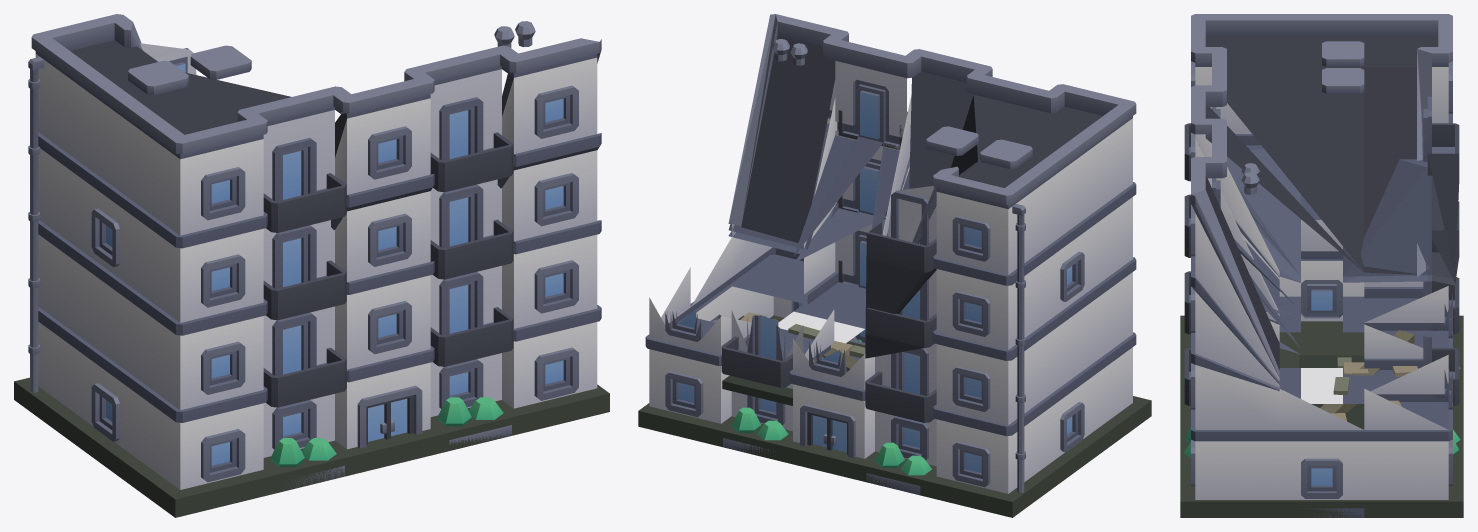
The model's file is building-j-ruined.glb.
3 renders of one model, left to right at view 1: azimuth 30°, elevation 25°; view 2: azimuth 150°, elevation 25°; view 3: azimuth 270°, elevation 25°, orthographic. The views are drawn at different scales.
Visible parts, largest first — view 1: building-j-ruined; view 2: building-j-ruined; view 3: building-j-ruined.
Part boxes in pixels (x1,y1,x2,y2): building-j-ruined: (14,14,609,517); building-j-ruined: (638,14,1151,517); building-j-ruined: (1180,14,1463,517).
Bounding box in the file's own units: 2.08 × 1.69 × 1.34.
6 materials, 1 textured.
